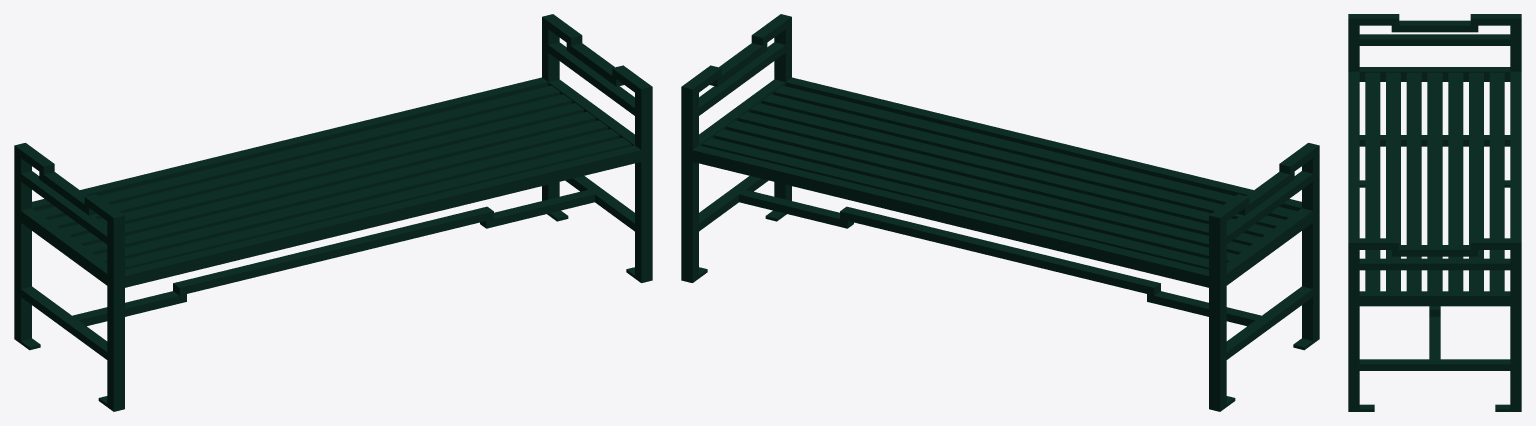
3 views of the same model, side by side, from view 1: azimuth 30°, elevation 25°; view 2: azimuth 150°, elevation 25°; view 3: azimuth 270°, elevation 25° (orthographic). The views are drawn at different scales.
Visible parts, largest first — view 1: mesh1_mesh1-geometry; view 2: mesh1_mesh1-geometry; view 3: mesh1_mesh1-geometry.
Boxes of the visible parts, <box> form: mesh1_mesh1-geometry: <box>14,14,652,411</box>; mesh1_mesh1-geometry: <box>681,14,1319,411</box>; mesh1_mesh1-geometry: <box>1348,14,1521,411</box>.
Size of the model in its own units: 0.9053 by 0.3112 by 0.2892.
